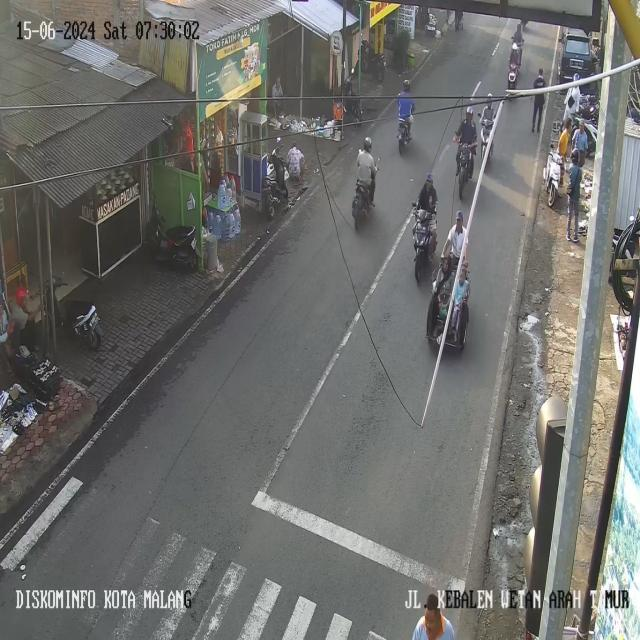Helmet: (15, 287, 27, 305), (363, 136, 371, 151), (571, 149, 578, 161), (403, 79, 410, 90), (456, 210, 463, 220), (466, 106, 473, 114), (426, 173, 432, 182), (487, 93, 491, 106), (573, 73, 579, 80), (512, 42, 517, 50)
